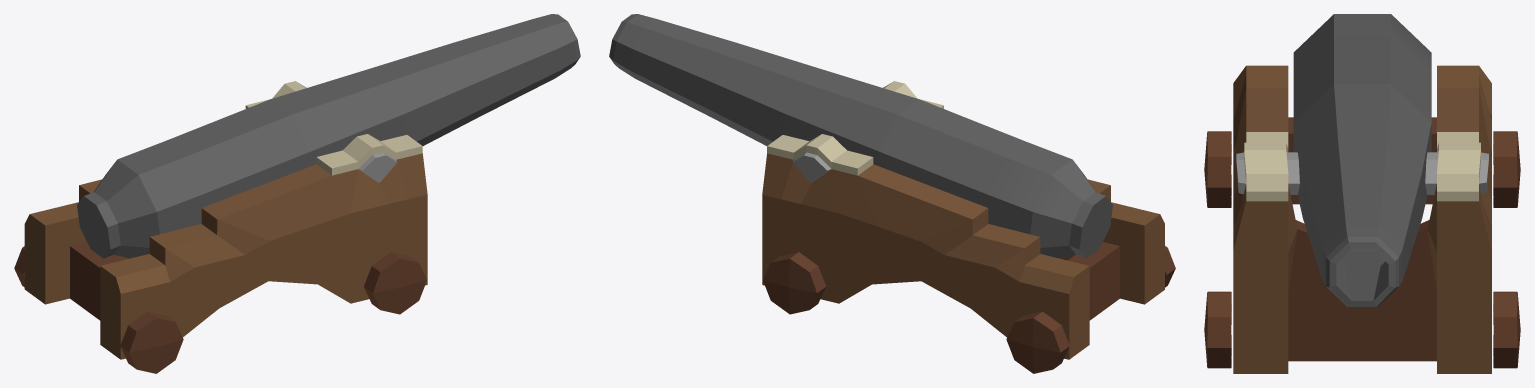
File: Cannon.fbx
The picture shows the model from 3 angles, left to right: view 1: azimuth 30°, elevation 25°; view 2: azimuth 150°, elevation 25°; view 3: azimuth 270°, elevation 25°; orthographic projection. The views are drawn at different scales.
Parts seen in each view (by area): view 1: Cannon; view 2: Cannon; view 3: Cannon.
Part boxes in pixels (x1,y1,x2,y2): Cannon: (14,14,580,373); Cannon: (609,14,1175,373); Cannon: (1204,14,1520,373).
Bounding box in the file's own units: 1.18 × 0.4583 × 0.4827.
1 material, 1 textured.
